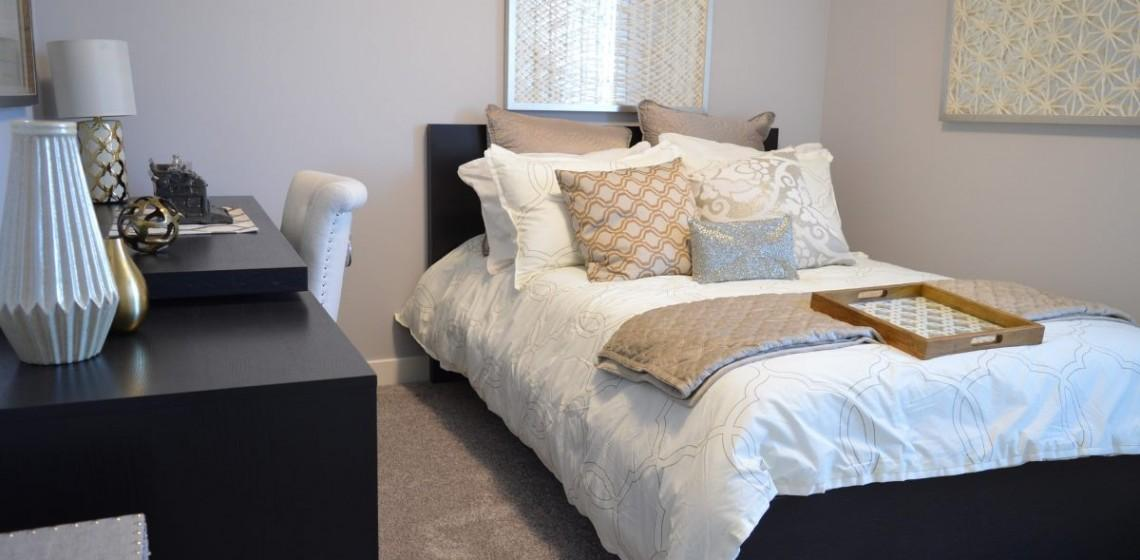bed: (406, 121, 1037, 560)
